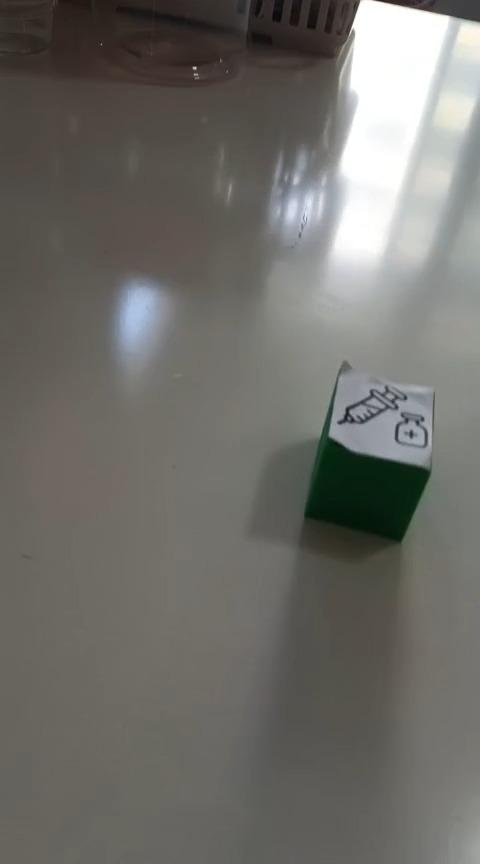antiseptic cream: (302, 358, 435, 543)
